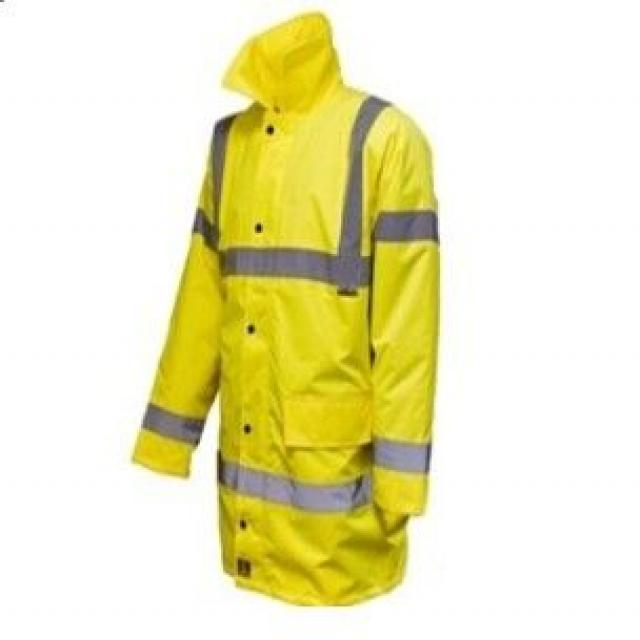Reflective-Jacket: (128, 71, 470, 611)
